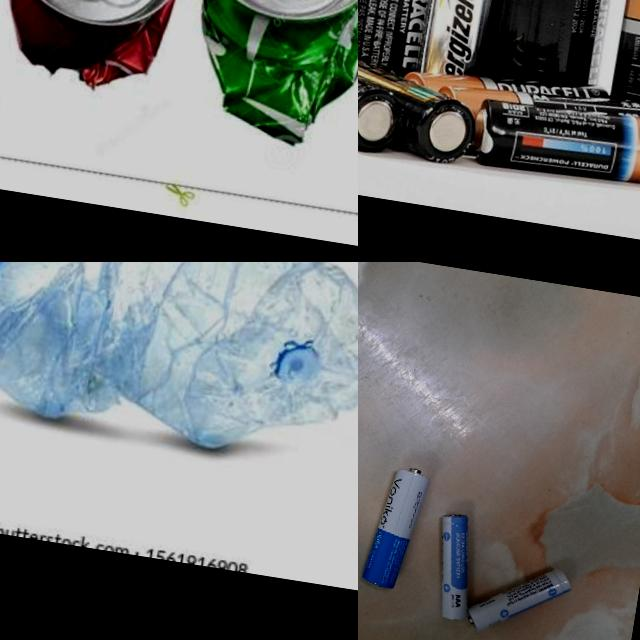bateria: (471, 90, 640, 200), (452, 0, 633, 97), (358, 54, 483, 168), (464, 556, 575, 640), (361, 462, 431, 592), (412, 0, 512, 85), (358, 40, 411, 157), (427, 512, 482, 622)
garrafa plástica: (0, 262, 358, 474)
lata: (175, 0, 358, 157), (0, 0, 214, 103)
